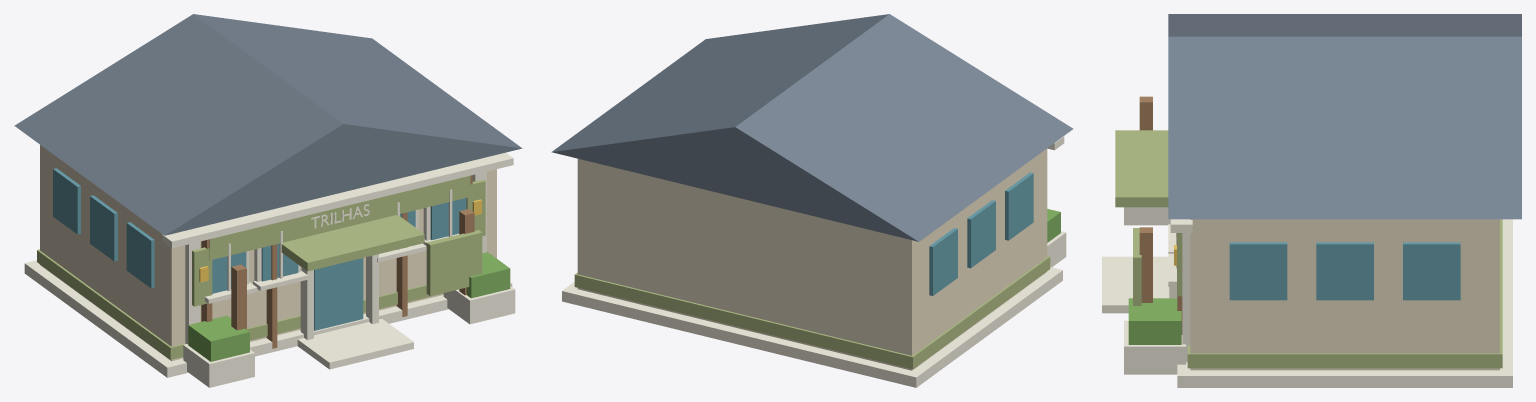
The model's file is visitantes.glb.
The picture shows the model from 3 angles, left to right: view 1: azimuth 30°, elevation 25°; view 2: azimuth 150°, elevation 25°; view 3: azimuth 270°, elevation 25°; orthographic projection. The views are drawn at different scales.
Visible parts, largest first — view 1: Foundation; view 2: Foundation; view 3: Foundation.
Part boxes in pixels (left/top/right/bottom): Foundation: left=14, top=14, right=522, bottom=387; Foundation: left=551, top=14, right=1073, bottom=387; Foundation: left=1102, top=14, right=1521, bottom=387.
Size of the model in its own units: 11 by 6.3 by 9.5.
